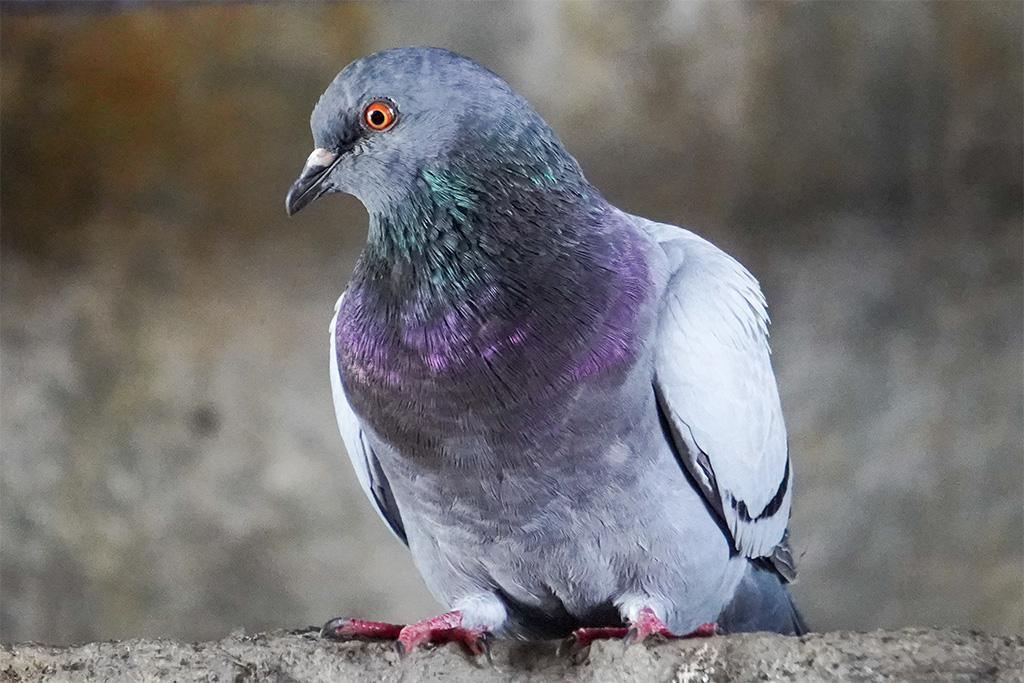Flying Rat: (285, 47, 801, 639)
